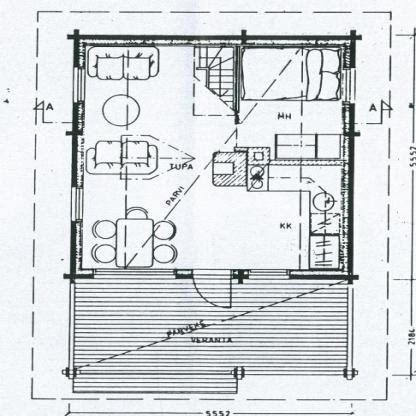door: (187, 266, 238, 311)
window: (87, 264, 182, 282), (65, 183, 90, 226), (337, 65, 362, 107), (243, 265, 294, 281), (69, 65, 88, 105)
